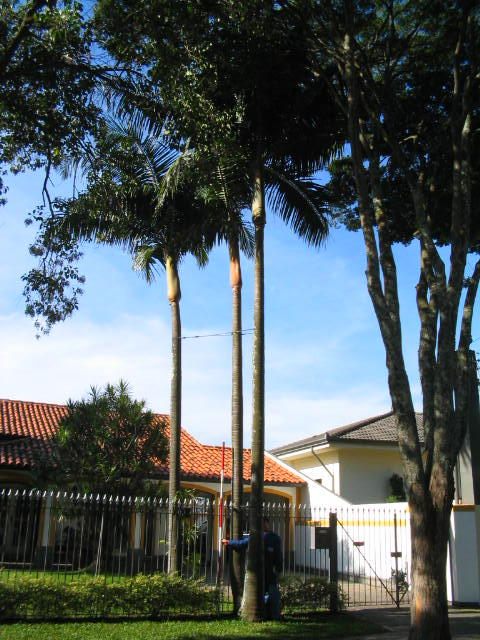stem: (391, 492, 470, 638)
stick: (207, 440, 233, 616)
